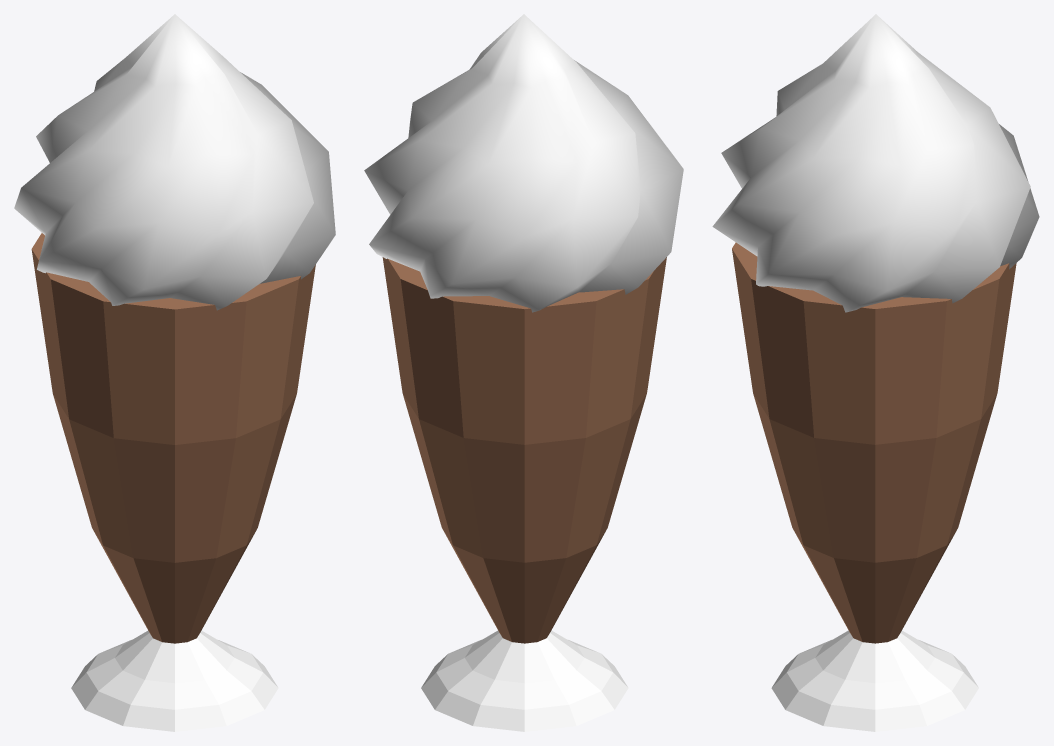
Rendered from CandylandShakeChocolate.fbx.
3 renders of one model, left to right at view 1: azimuth 30°, elevation 25°; view 2: azimuth 150°, elevation 25°; view 3: azimuth 270°, elevation 25°, orthographic.
Visible parts, largest first — view 1: CandylandShakeChocolate; view 2: CandylandShakeChocolate; view 3: CandylandShakeChocolate.
Boxes of the visible parts, box(x1,y1,x2,y2) form: CandylandShakeChocolate: box(14, 14, 335, 731); CandylandShakeChocolate: box(364, 14, 683, 731); CandylandShakeChocolate: box(712, 14, 1039, 731).
Bounding box in the file's own units: 0.6089 × 1.38 × 0.6089.
